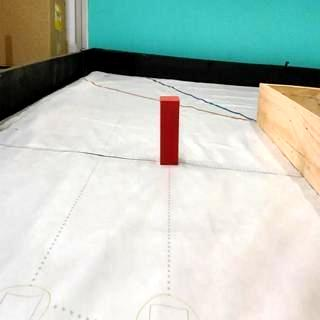redbox: (158, 94, 180, 164)
